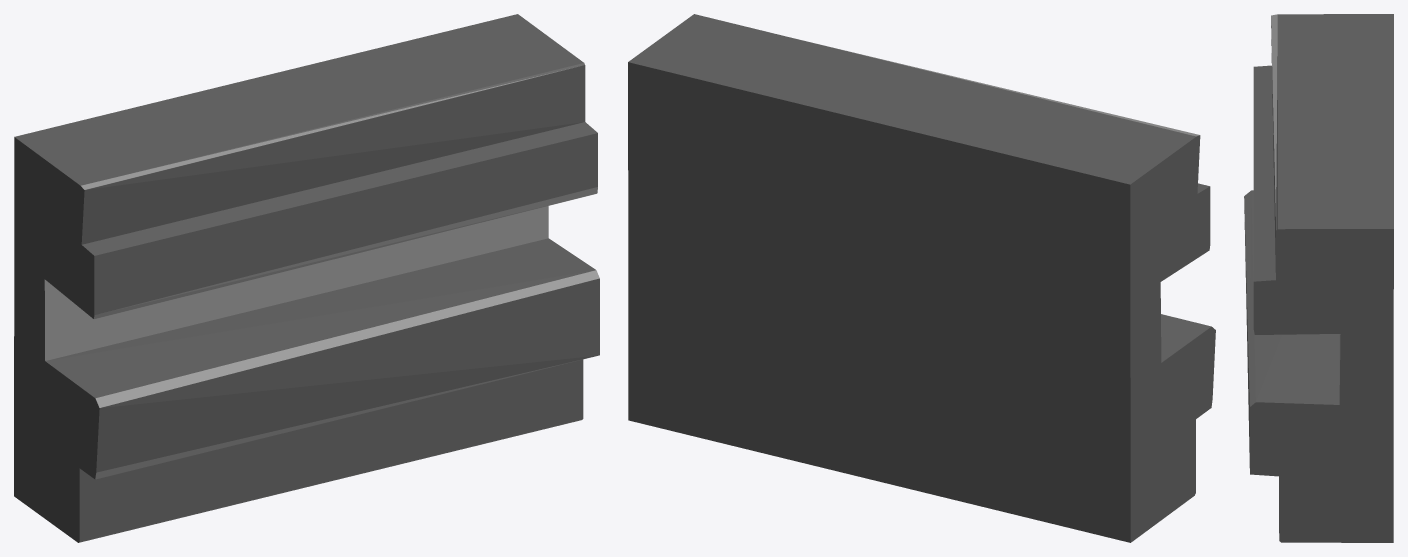
The model's file is MCastle_MasonryFixtures_03.FBX.
3 views of the same model, side by side, from view 1: azimuth 30°, elevation 25°; view 2: azimuth 150°, elevation 25°; view 3: azimuth 270°, elevation 25° (orthographic). The views are drawn at different scales.
Visible parts, largest first — view 1: MCastle_MasonryFixtures_03_LOD0; view 2: MCastle_MasonryFixtures_03_LOD0; view 3: MCastle_MasonryFixtures_03_LOD0.
Boxes of the visible parts, x1=… form: MCastle_MasonryFixtures_03_LOD0: x1=14, y1=14, x2=599, y2=542; MCastle_MasonryFixtures_03_LOD0: x1=628, y1=14, x2=1215, y2=542; MCastle_MasonryFixtures_03_LOD0: x1=1244, y1=14, x2=1393, y2=542.
Size of what is drawn, in the model's own units: 4.01 by 2.73 by 1.18.
